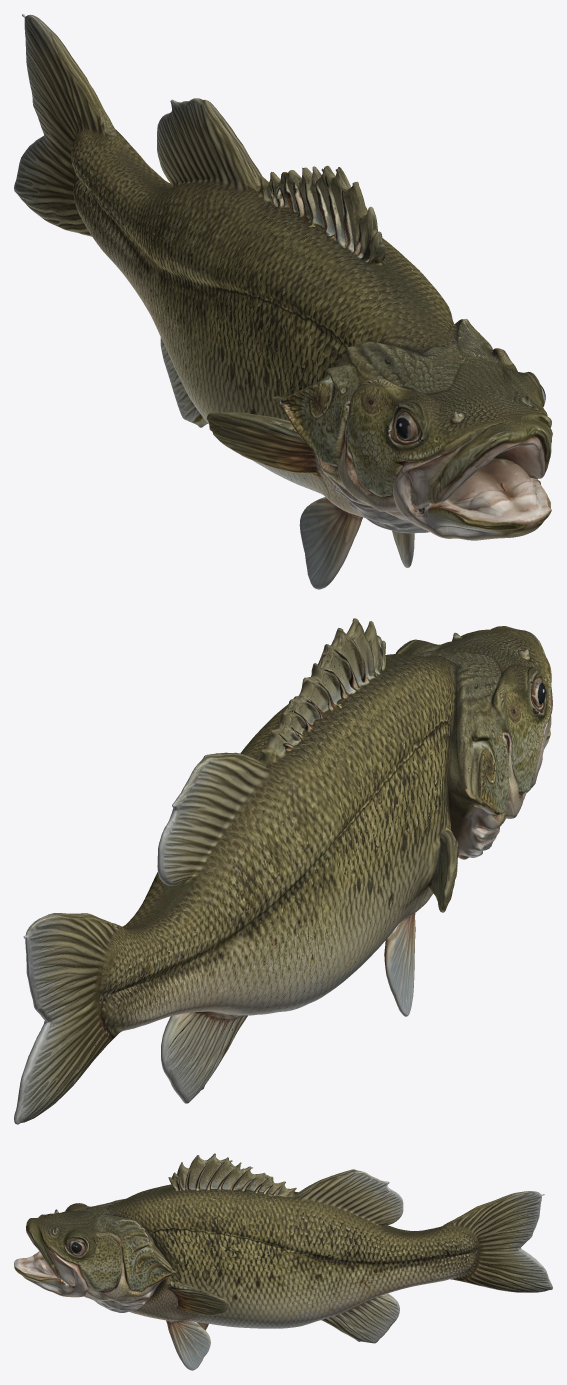
Rendered from bass-model.glb.
The picture shows the model from 3 angles, top to bottom: view 1: azimuth 30°, elevation 25°; view 2: azimuth 150°, elevation 25°; view 3: azimuth 270°, elevation 25°; orthographic projection. The views are drawn at different scales.
Parts seen in each view (by area): view 1: tripo_node_dab7b764-1211-495e-81be-8c31f3ec7141; view 2: tripo_node_dab7b764-1211-495e-81be-8c31f3ec7141; view 3: tripo_node_dab7b764-1211-495e-81be-8c31f3ec7141.
Part boxes in pixels (x1,y1,x2,y2): tripo_node_dab7b764-1211-495e-81be-8c31f3ec7141: (14, 14, 552, 589); tripo_node_dab7b764-1211-495e-81be-8c31f3ec7141: (14, 618, 552, 1124); tripo_node_dab7b764-1211-495e-81be-8c31f3ec7141: (14, 1153, 552, 1370).
Bounding box in the file's own units: 0.2681 × 0.4207 × 1.
1 material, 1 textured.
